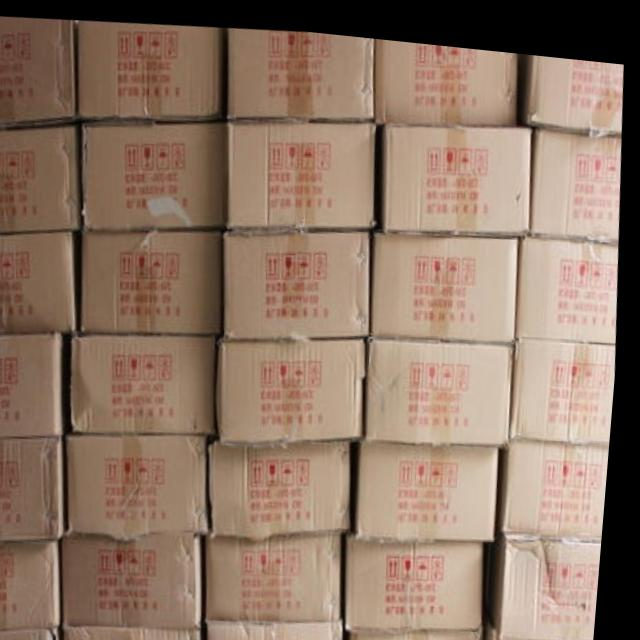box: (227, 116, 378, 228), (82, 115, 229, 230), (379, 117, 534, 223), (375, 222, 521, 333), (227, 224, 375, 332), (224, 330, 370, 439), (83, 227, 228, 332), (75, 20, 226, 120), (371, 331, 518, 432), (75, 430, 215, 535), (213, 432, 357, 534), (359, 432, 506, 529), (77, 333, 223, 430), (223, 24, 375, 116), (353, 525, 491, 623), (69, 531, 213, 624), (374, 31, 518, 117), (214, 525, 350, 615), (496, 526, 610, 630), (515, 329, 619, 432), (519, 224, 620, 329), (506, 433, 616, 526), (533, 119, 622, 229), (0, 122, 82, 234), (0, 229, 83, 337), (0, 18, 79, 128), (519, 42, 622, 121), (0, 331, 75, 439), (0, 434, 75, 542), (0, 537, 71, 632), (492, 600, 603, 640), (211, 613, 352, 640), (357, 619, 492, 640), (72, 624, 211, 640), (0, 624, 72, 640)
